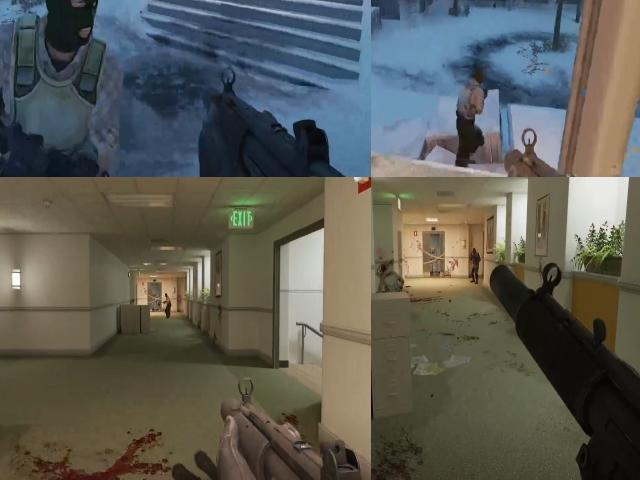Dead: (378, 262, 408, 291)
T: (0, 2, 133, 177), (458, 79, 486, 145), (162, 290, 174, 318)
T-Head: (15, 0, 105, 67), (465, 66, 492, 90), (164, 290, 170, 302)
